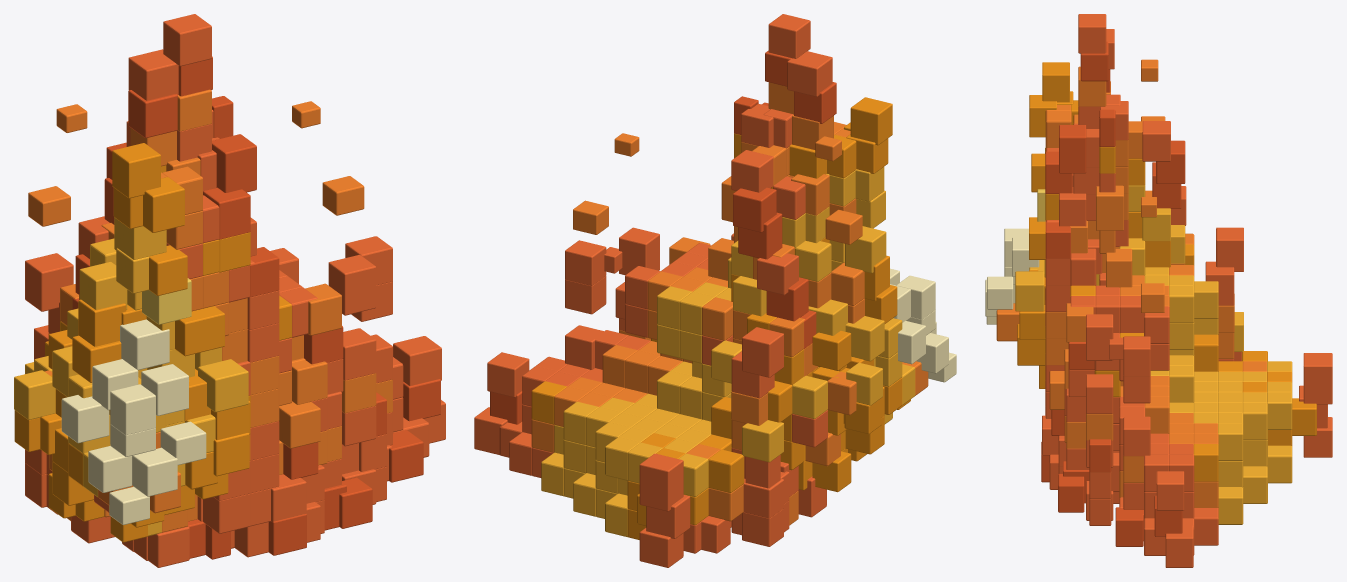
The model's file is SM_Blender_Ember.glb.
3 renders of one model, left to right at view 1: azimuth 30°, elevation 25°; view 2: azimuth 150°, elevation 25°; view 3: azimuth 270°, elevation 25°, orthographic. The views are drawn at different scales.
Visible parts, largest first — view 1: SM_Blender_Ember; view 2: SM_Blender_Ember; view 3: SM_Blender_Ember.
Boxes of the visible parts, left/top/right/bottom form: SM_Blender_Ember: left=14, top=14, right=445, bottom=567; SM_Blender_Ember: left=474, top=14, right=956, bottom=567; SM_Blender_Ember: left=985, top=14, right=1332, bottom=567.
Size of the model in its own units: 1.18 by 1.35 by 0.9914.
Materials: 1 (1 with a texture image).
